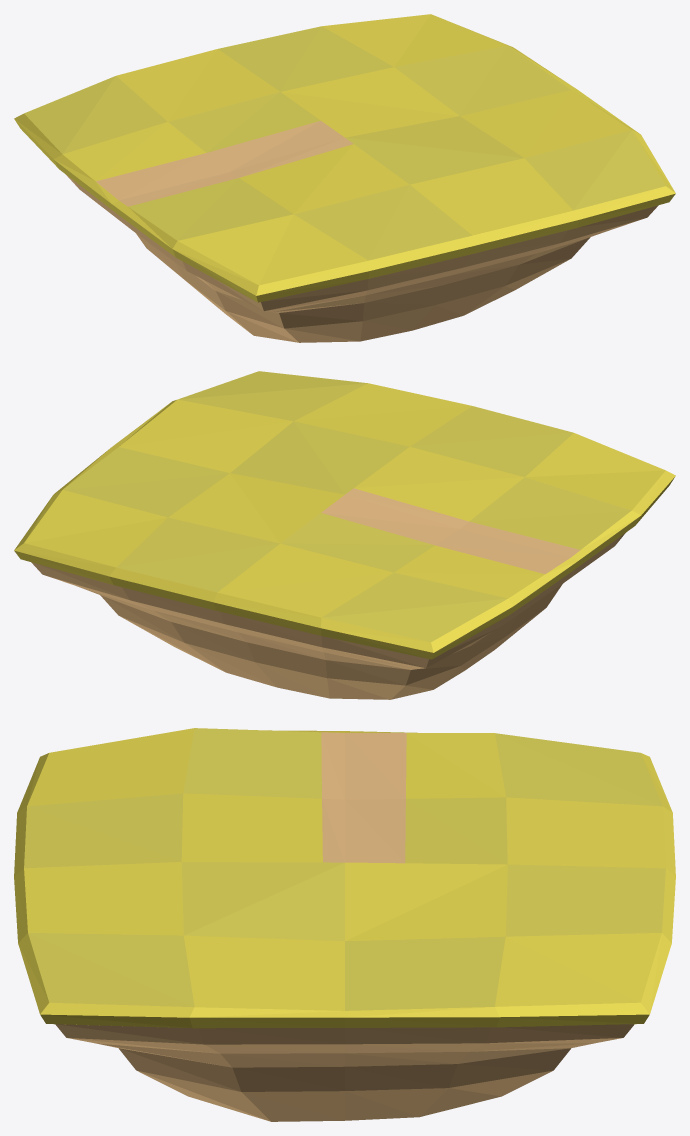
File: floor.gltf
The picture shows the model from 3 angles, top to bottom: view 1: azimuth 30°, elevation 25°; view 2: azimuth 150°, elevation 25°; view 3: azimuth 270°, elevation 25°; orthographic projection. The views are drawn at different scales.
Visible parts, largest first — view 1: Object_21, Object_18, Object_22; view 2: Object_21, Object_18, Object_22; view 3: Object_21, Object_18, Object_22.
Boxes of the visible parts, x1=… form: Object_21: x1=14, y1=14, x2=675, y2=302; Object_18: x1=24, y1=26, x2=665, y2=260; Object_22: x1=66, y1=121, x2=658, y2=342; Object_21: x1=14, y1=383, x2=675, y2=659; Object_18: x1=63, y1=371, x2=631, y2=642; Object_22: x1=31, y1=488, x2=625, y2=699; Object_21: x1=14, y1=728, x2=675, y2=1028; Object_18: x1=24, y1=728, x2=665, y2=1010; Object_22: x1=55, y1=732, x2=634, y2=1121.
Size of the model in its own units: 267 by 86.46 by 259.
